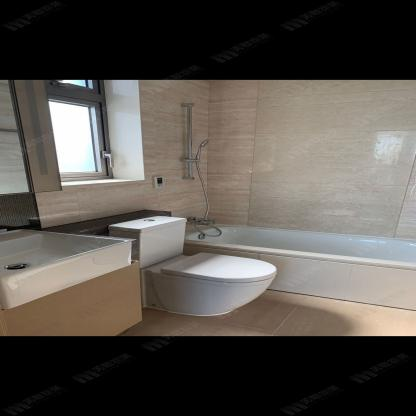Bathtub: (184, 223, 415, 310)
Toilet: (106, 215, 279, 314)
Toilet Sink: (0, 229, 131, 309)
